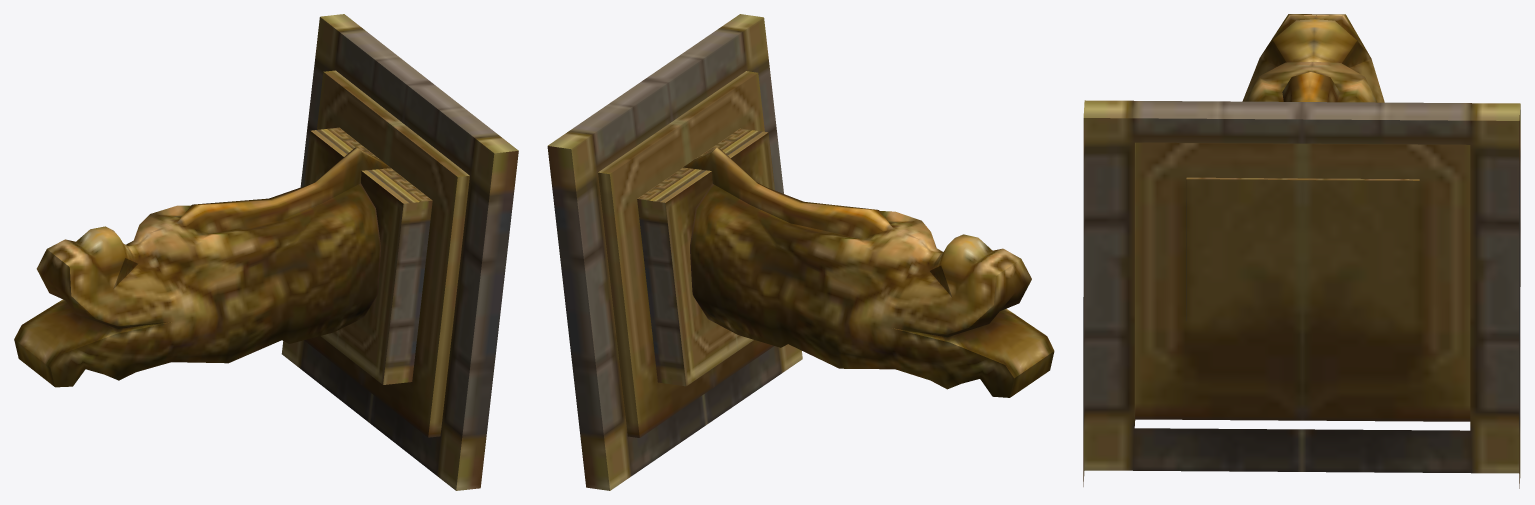
File: Yland1_bj_14 Yland1.FBX
The picture shows the model from 3 angles, left to right: view 1: azimuth 30°, elevation 25°; view 2: azimuth 150°, elevation 25°; view 3: azimuth 270°, elevation 25°; orthographic projection. The views are drawn at different scales.
Parts seen in each view (by area): view 1: Yland1_bj_14 Yland1; view 2: Yland1_bj_14 Yland1; view 3: Yland1_bj_14 Yland1.
Part boxes in pixels (<box>): Yland1_bj_14 Yland1: <box>14,14,518,490</box>; Yland1_bj_14 Yland1: <box>547,14,1054,490</box>; Yland1_bj_14 Yland1: <box>1083,14,1520,488</box>.
Size of the model in its own units: 5.13 by 4.1 by 4.09.
